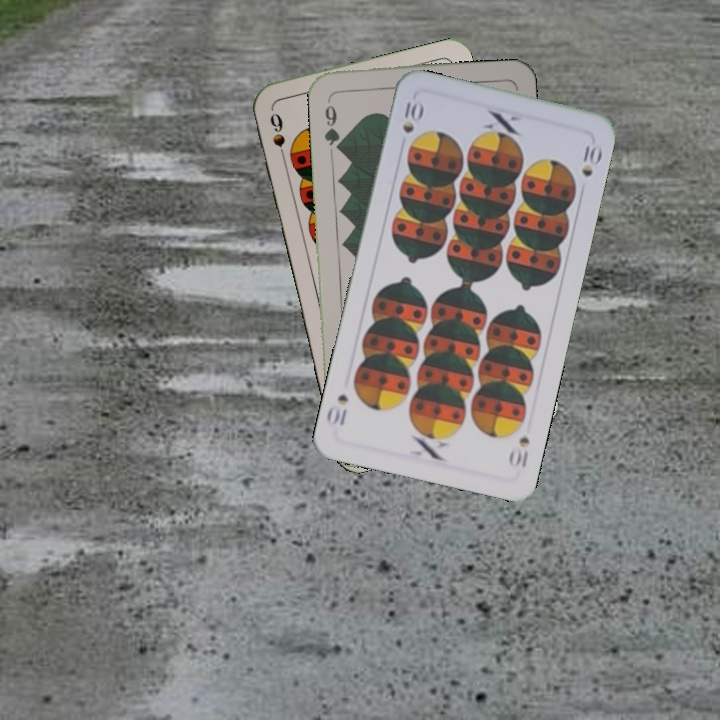G9: (321, 93, 344, 152)
S10: (398, 94, 425, 136), (505, 433, 532, 471)
S9: (265, 109, 289, 165)
